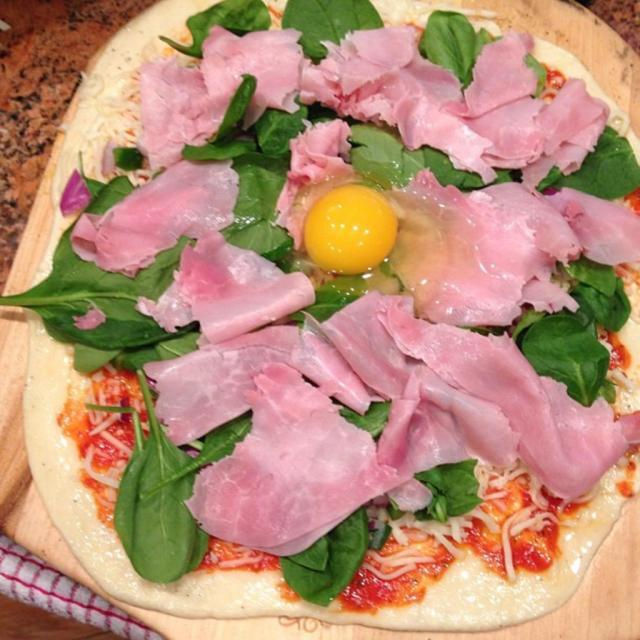Pizza: (0, 0, 639, 623)
